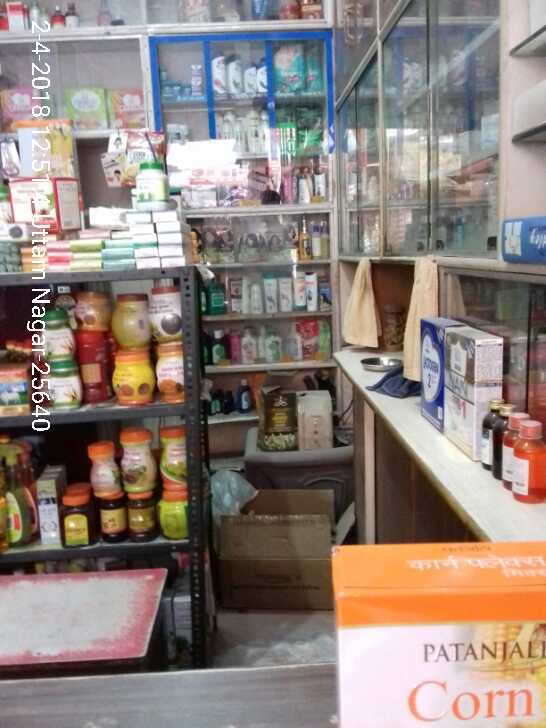vicks: (160, 65, 202, 98)
